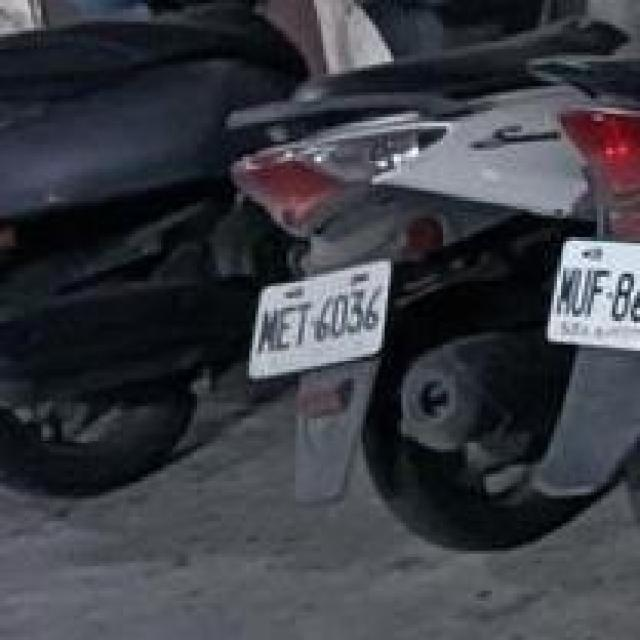W: (231, 240, 412, 403), (538, 222, 640, 369)
